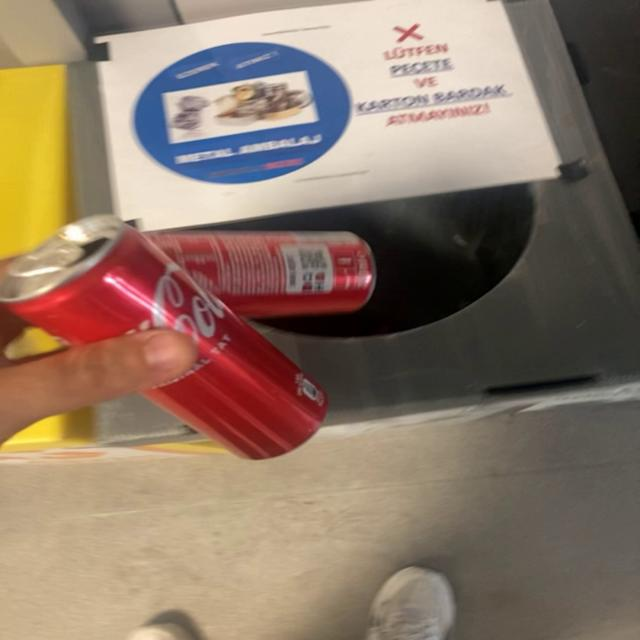bin: (198, 0, 638, 415), (67, 62, 123, 215)
metal: (1, 216, 372, 460)
